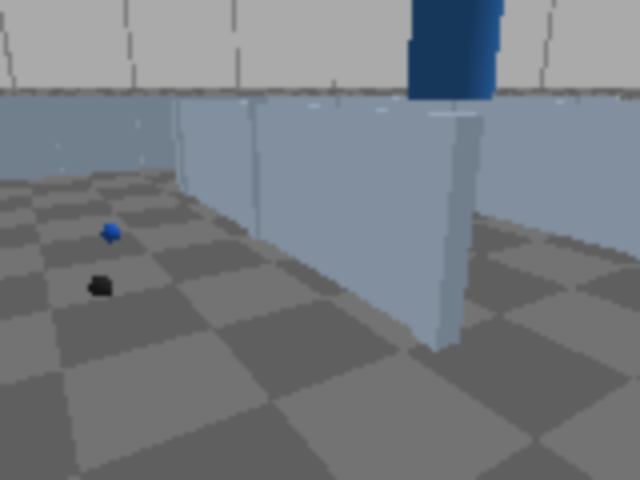puck: (82, 271, 120, 302), (98, 221, 125, 246)
